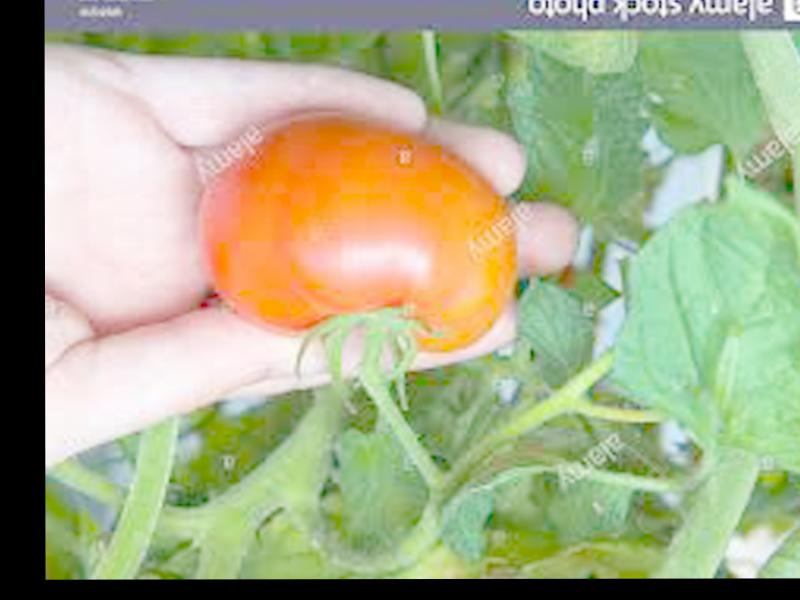Tomato: (195, 120, 517, 352)
